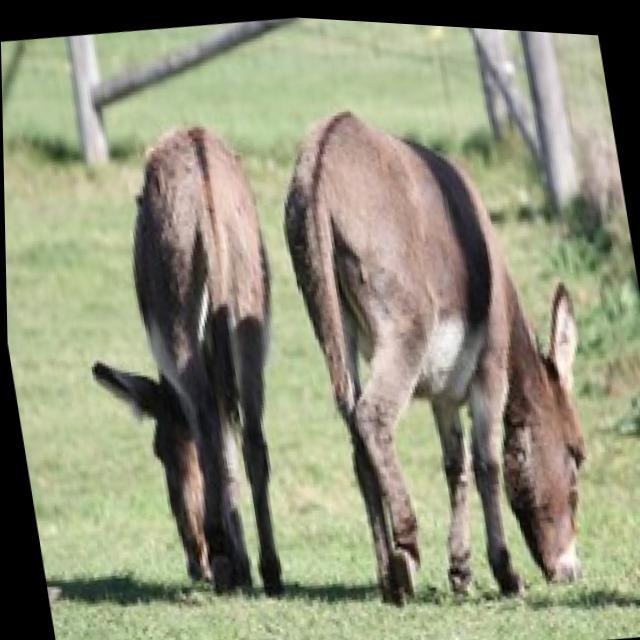Donkey: (264, 71, 619, 618), (52, 105, 322, 614)
